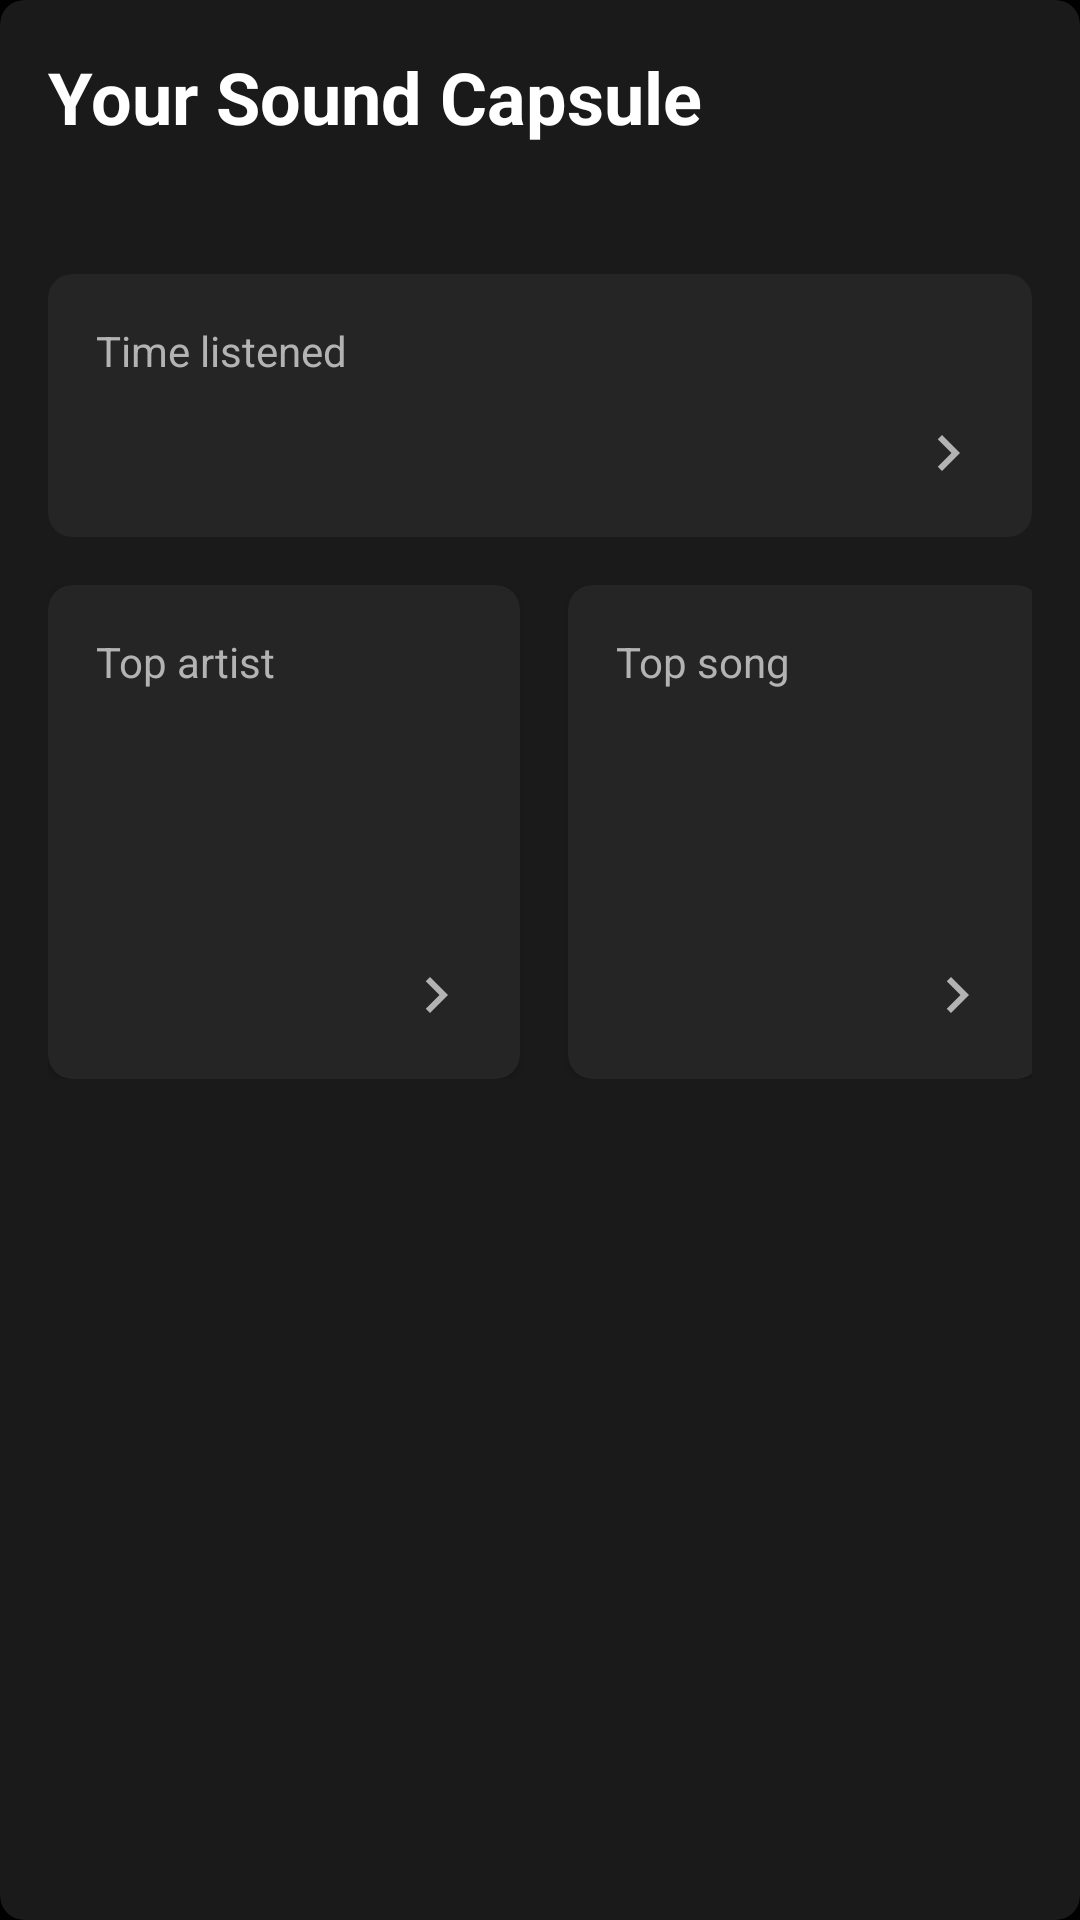

Locate icon controls on the screen. Image size 1080x1920, boxes as (x1, y1, x2, y2).
chevron right: (938, 435, 960, 471), (426, 977, 448, 1013), (947, 977, 969, 1013)
